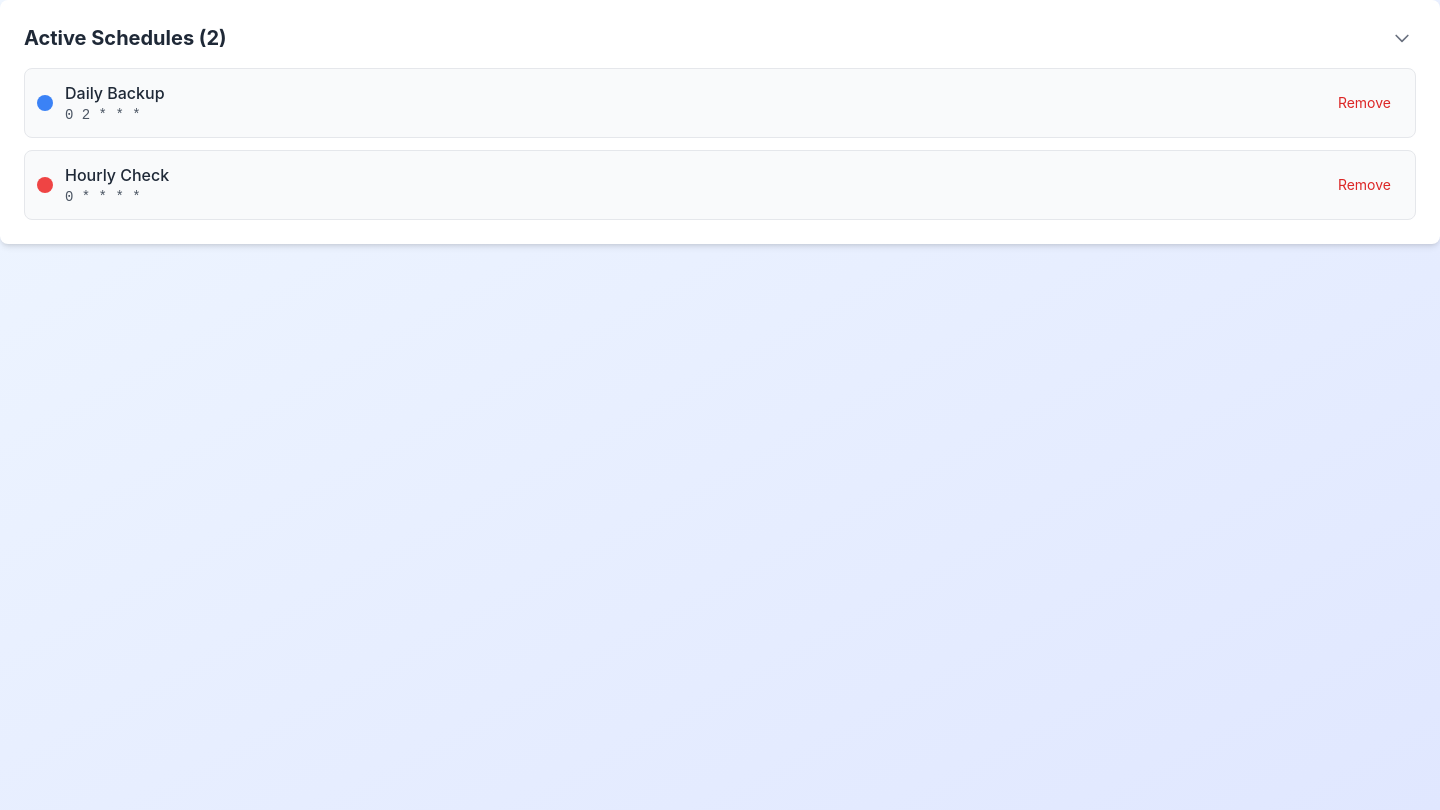
ScheduleList › Rename Feature › should enter edit mode when label is clicked
Click the text "Daily Backup". click: (115, 93)
box: [65,83,165,103]
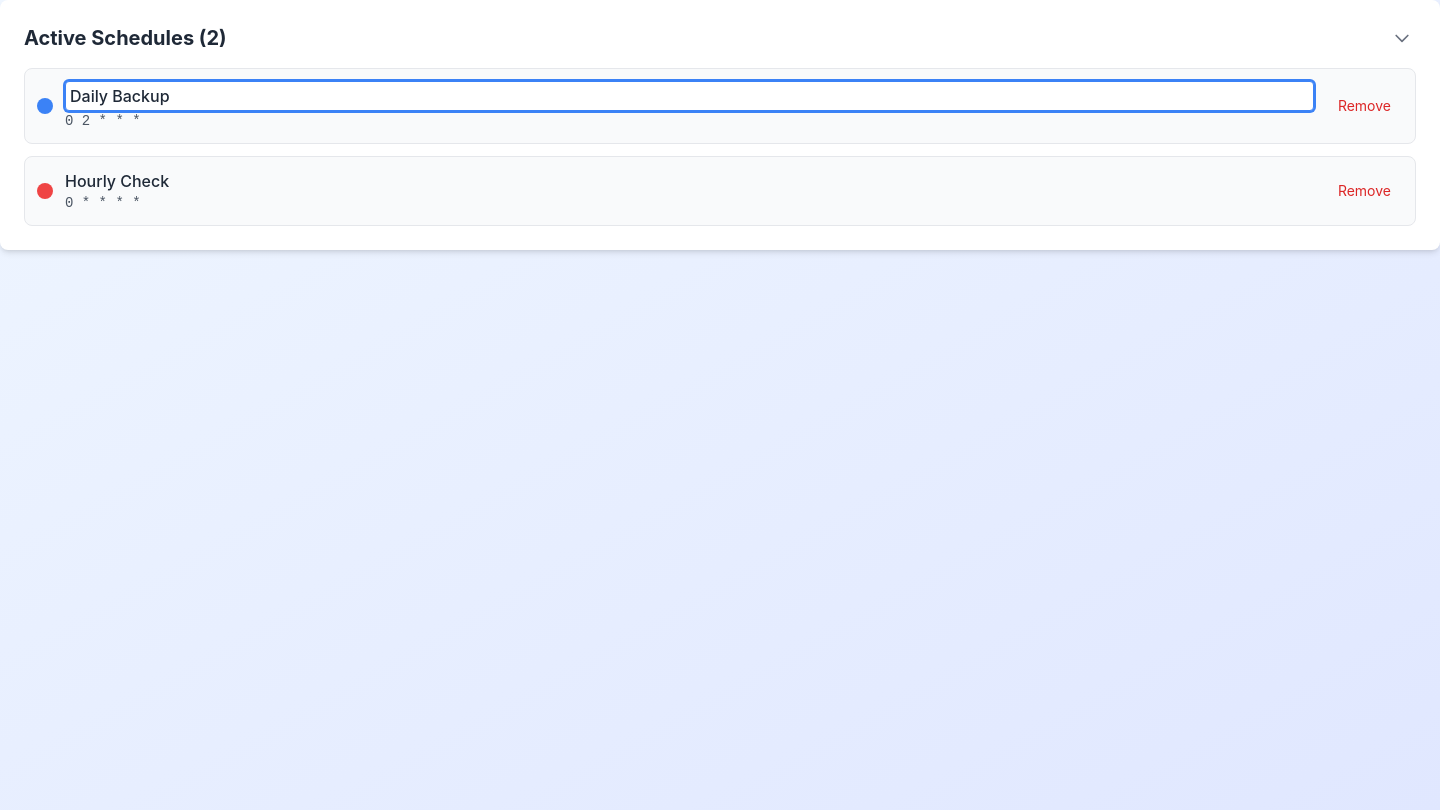
Now the field showing "Daily Backup" is shown, box [65,81,1314,111]
